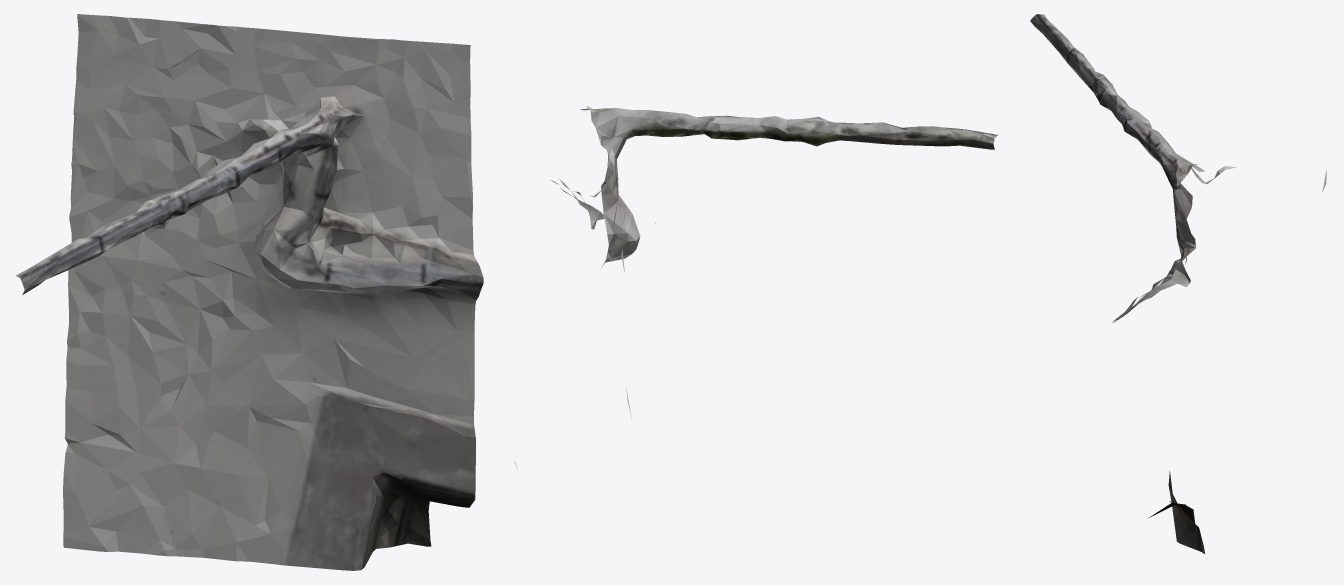
3 renders of one model, left to right at view 1: azimuth 30°, elevation 25°; view 2: azimuth 150°, elevation 25°; view 3: azimuth 270°, elevation 25°, orthographic. The views are drawn at different scales.
Bounding box in the file's own units: 1.67 × 1.67 × 1.09.
Materials: 2 (2 with a texture image).
